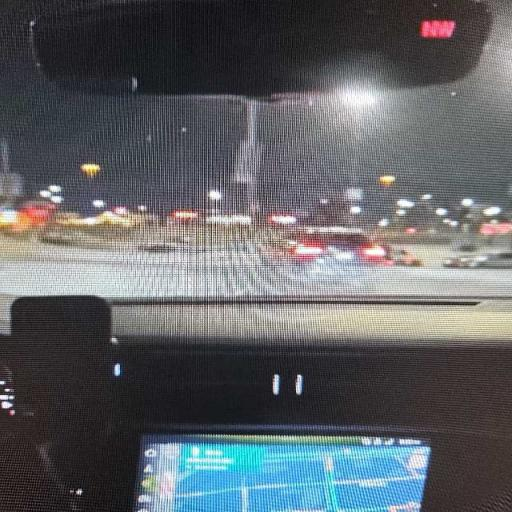car: (0, 0, 511, 511), (261, 228, 389, 265), (444, 252, 512, 270), (389, 250, 423, 266)
lane: (0, 257, 511, 298)
